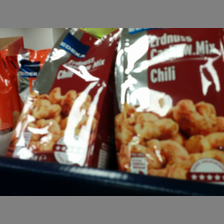nuts: (115, 28, 224, 184), (7, 28, 118, 167)
